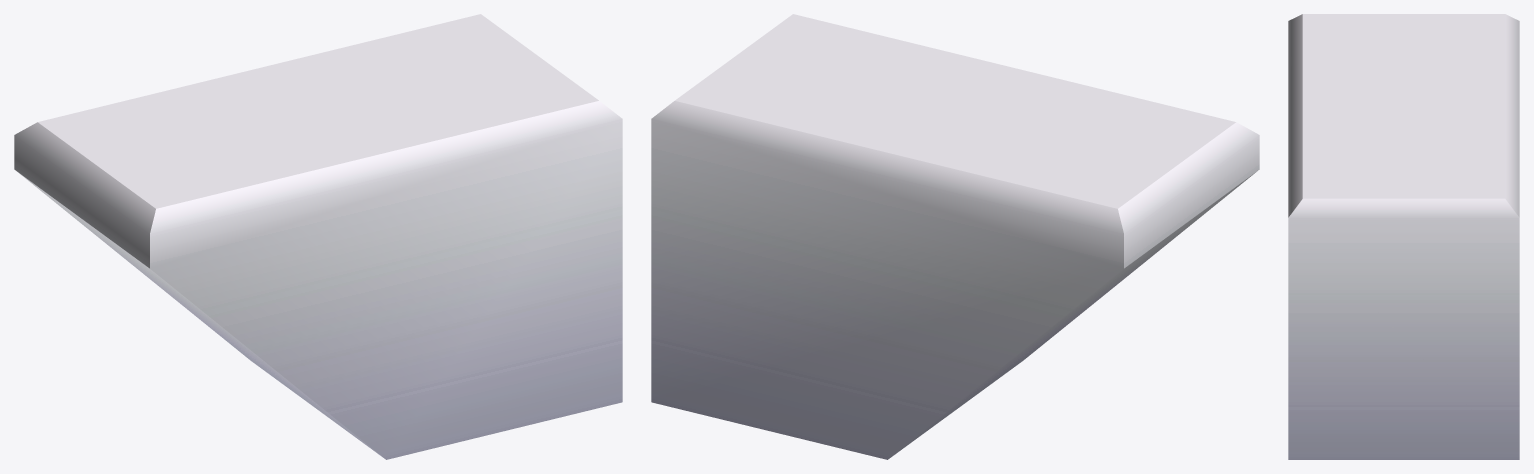
Rendered from none-hq-brick-slope-inverted-1x2.glb.
3 renders of one model, left to right at view 1: azimuth 30°, elevation 25°; view 2: azimuth 150°, elevation 25°; view 3: azimuth 270°, elevation 25°, orthographic. The views are drawn at different scales.
Visible parts, largest first — view 1: none-hq-brick-slope-inverted-1x2; view 2: none-hq-brick-slope-inverted-1x2; view 3: none-hq-brick-slope-inverted-1x2.
Boxes of the visible parts, x1=… form: none-hq-brick-slope-inverted-1x2: x1=14, y1=14, x2=622, y2=459; none-hq-brick-slope-inverted-1x2: x1=651, y1=14, x2=1259, y2=459; none-hq-brick-slope-inverted-1x2: x1=1288, y1=14, x2=1519, y2=459.
Size of the model in its own units: 0.159 by 0.096 by 0.079.
1 material, 1 textured.
